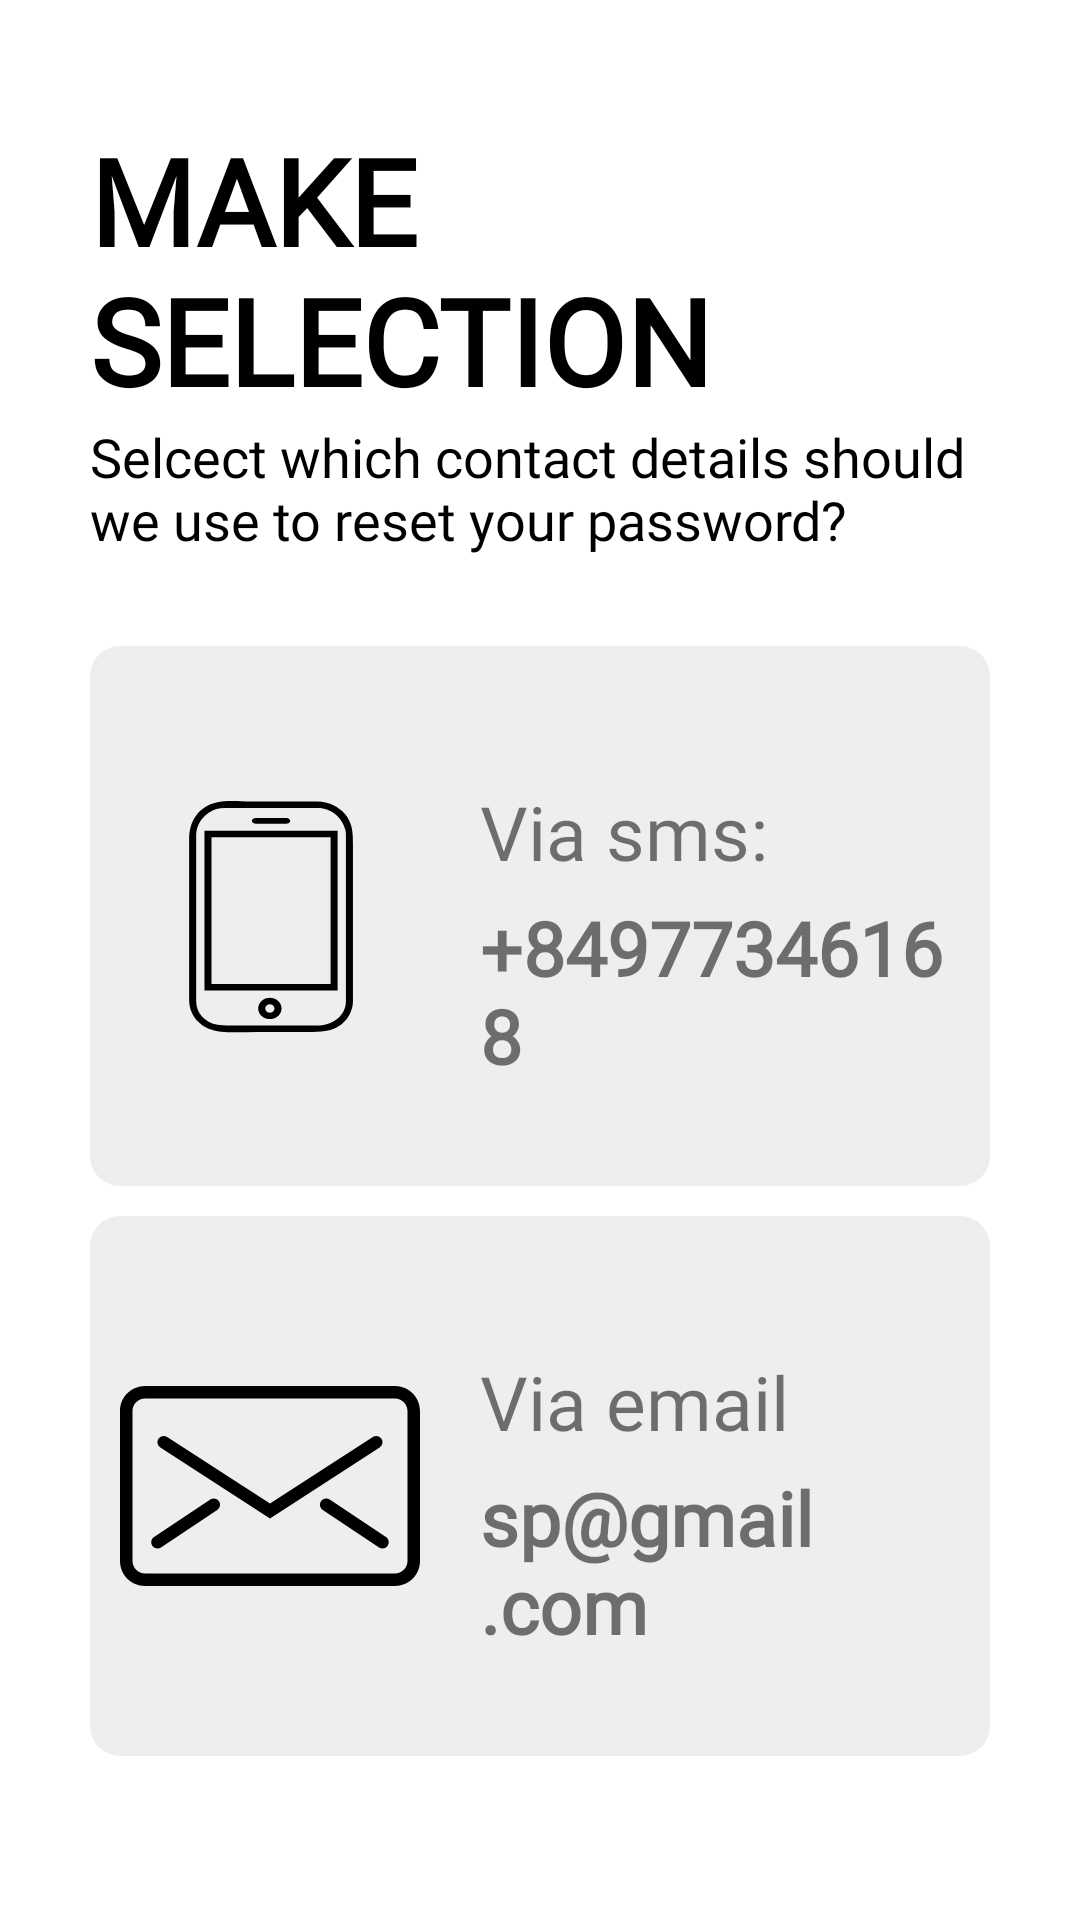

Icons on this 1080w x 1920h Android screen, each with the point to tap as [x,y]:
mobilephone: [271,917]
